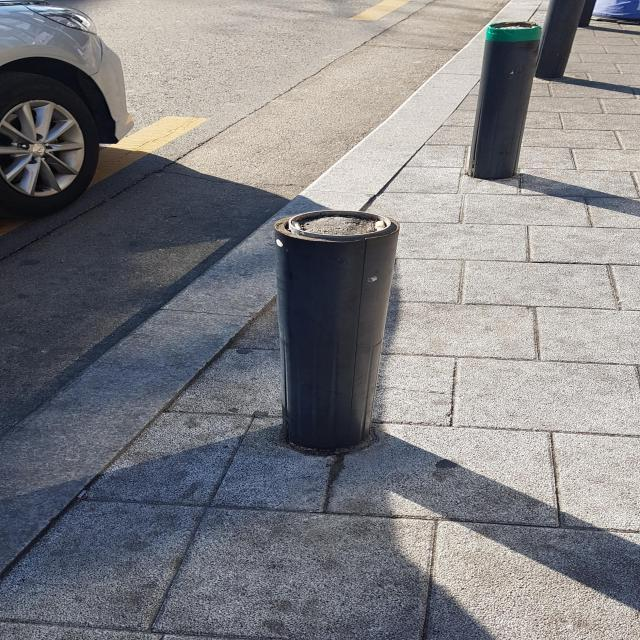pole: (269, 211, 403, 457)
